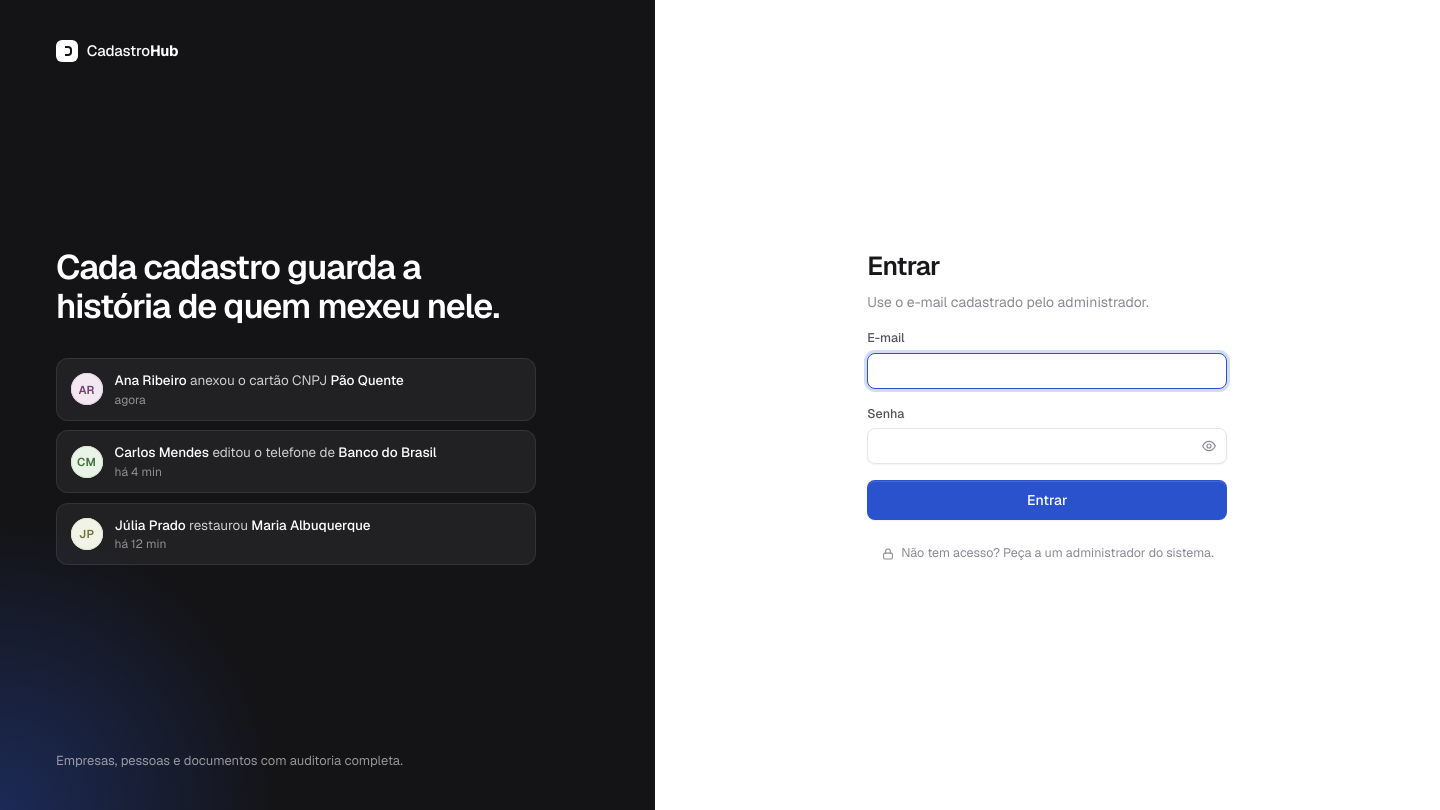
Scenario: link direto abre a página pedida depois do login
The width and height of the screenshot is (1440, 810).
Type "ana@empresa.com" into the field labelled "E-mail" at [1047, 371], box 867,353 -> 1227,389
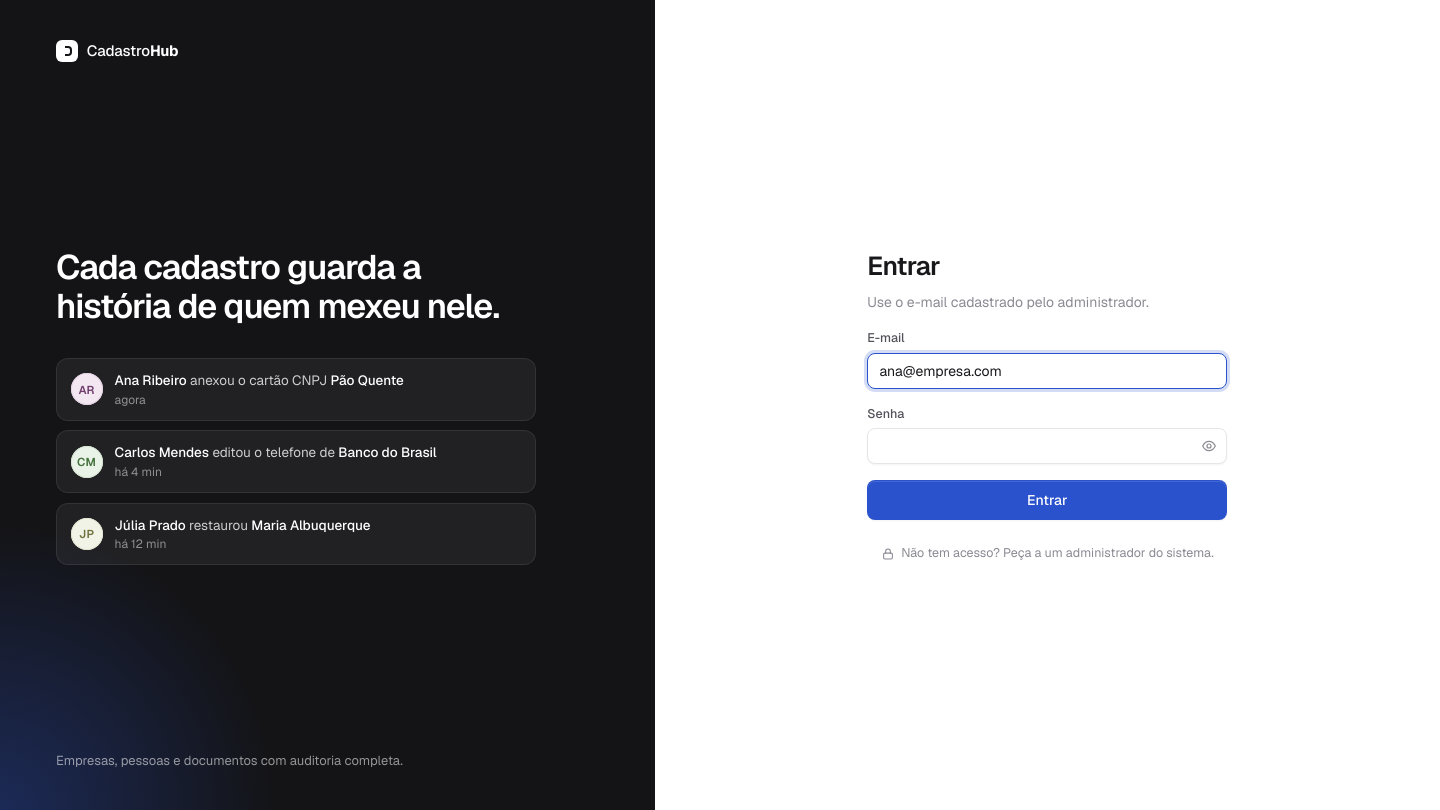
Type "Senha123" into the password field labelled "Senha" at [1047, 446], box 867,428 -> 1227,464
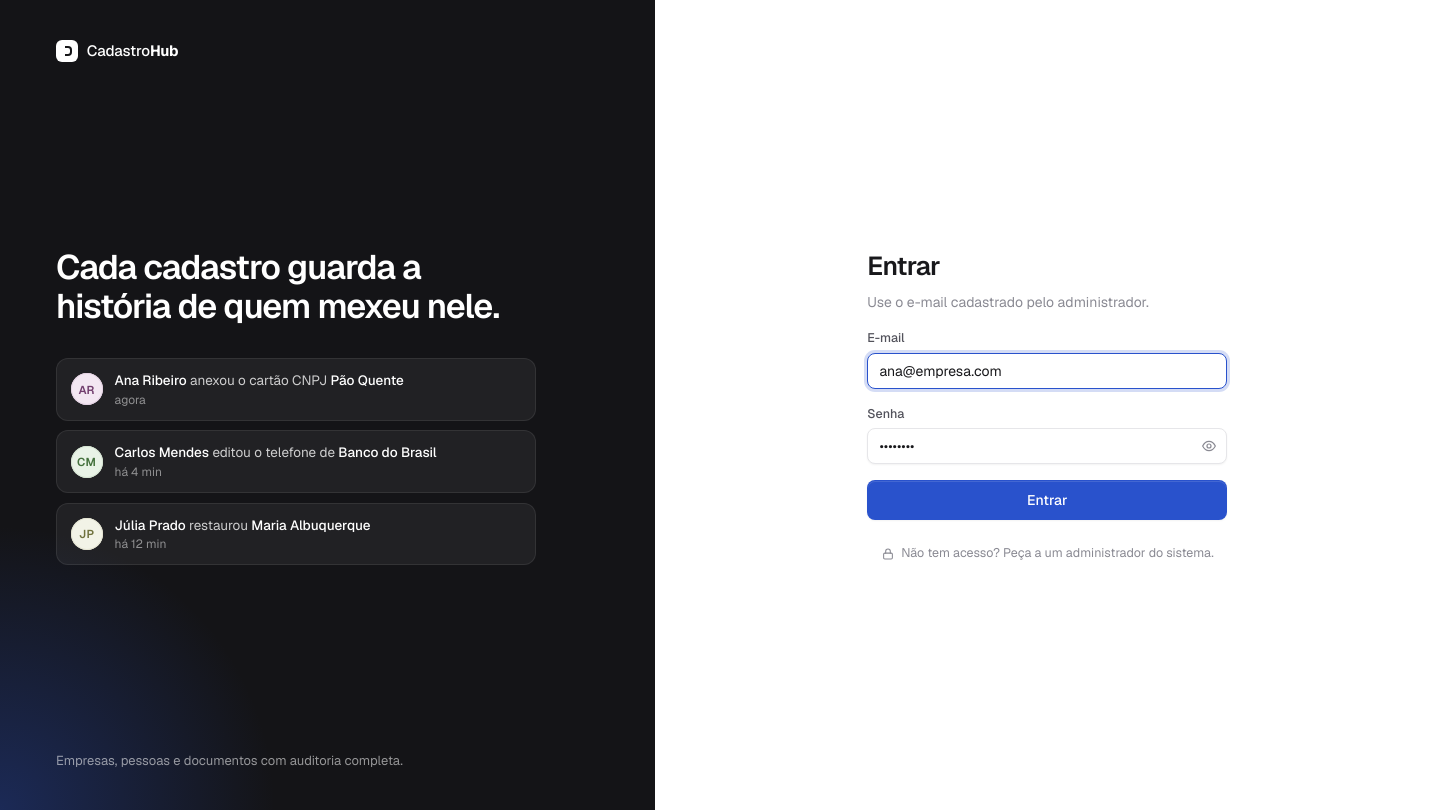
Click the button "Entrar" at [1047, 500], box 867,480 -> 1227,520
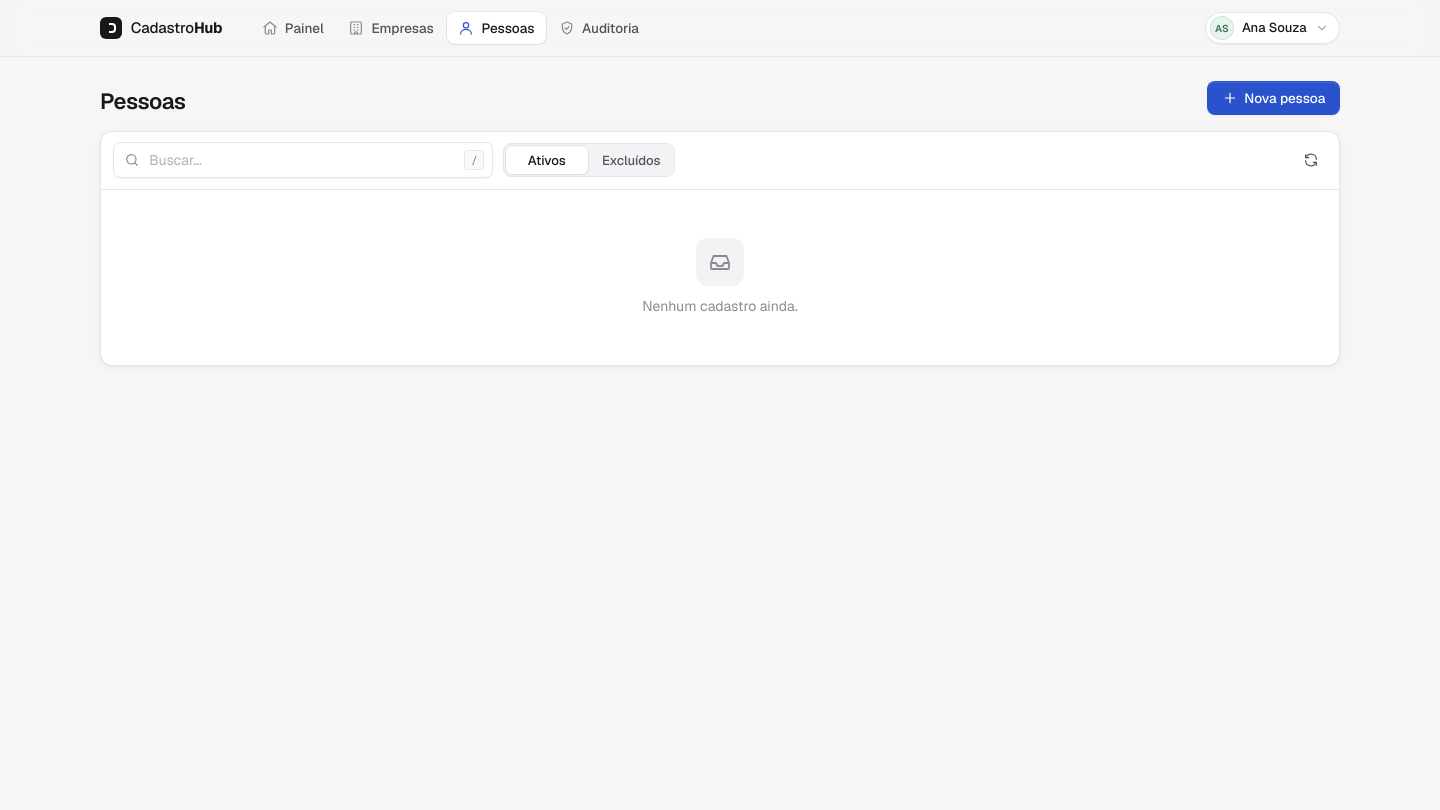
Expected: the heading "Pessoas" is shown, 100,88 -> 186,115
